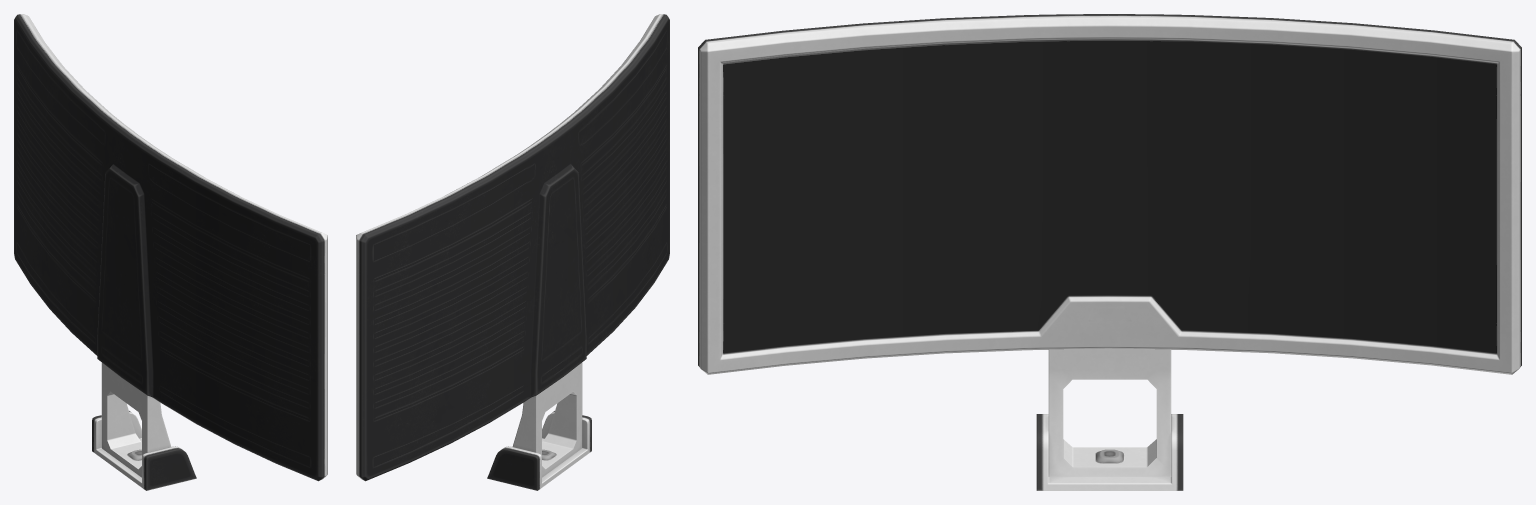
File: SM_LabDisplay01_2.FBX
3 renders of one model, left to right at view 1: azimuth 30°, elevation 25°; view 2: azimuth 150°, elevation 25°; view 3: azimuth 270°, elevation 25°, orthographic. The views are drawn at different scales.
Visible parts, largest first — view 1: SM_LabDisplay01_2; view 2: SM_LabDisplay01_2; view 3: SM_LabDisplay01_2.
Part boxes in pixels (box(x1,y1,x2,y2)): SM_LabDisplay01_2: box(14, 14, 327, 490); SM_LabDisplay01_2: box(356, 14, 669, 490); SM_LabDisplay01_2: box(698, 14, 1521, 490).
Size of what is drawn, in the model's own units: 12.97 by 116 by 69.84.
